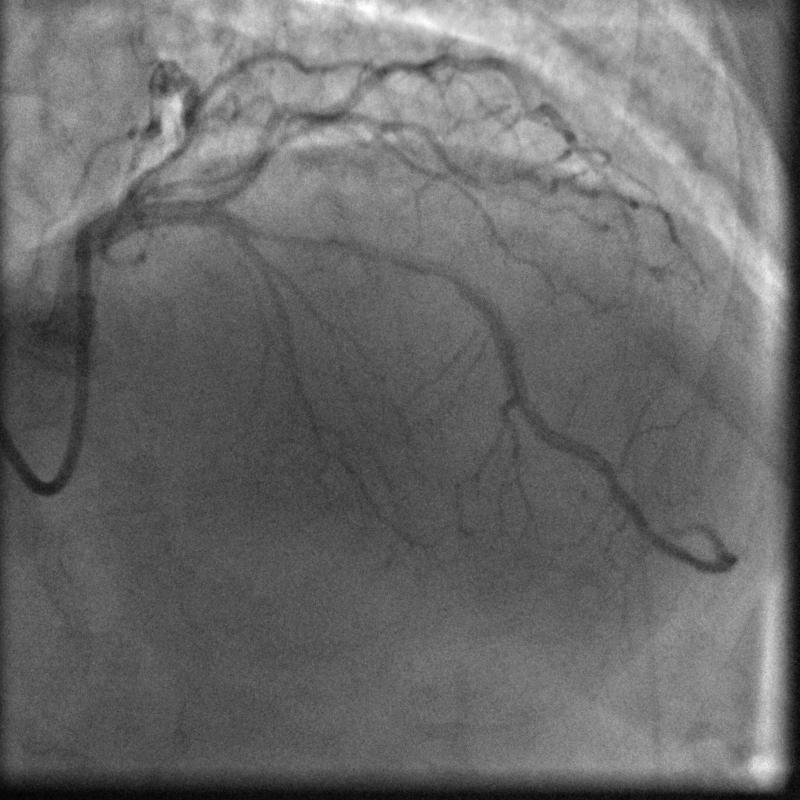Stenosis: (263, 219, 331, 256)
